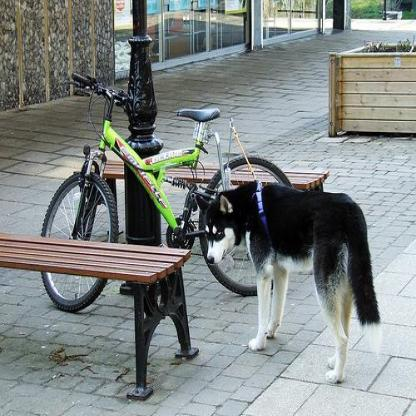Siberian_husky: (194, 180, 383, 385)
